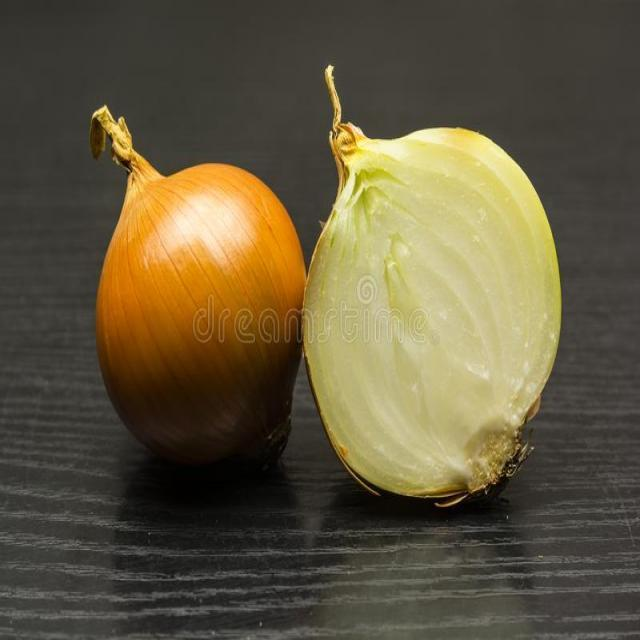half onion: (304, 75, 563, 505)
onion: (89, 98, 307, 477)
